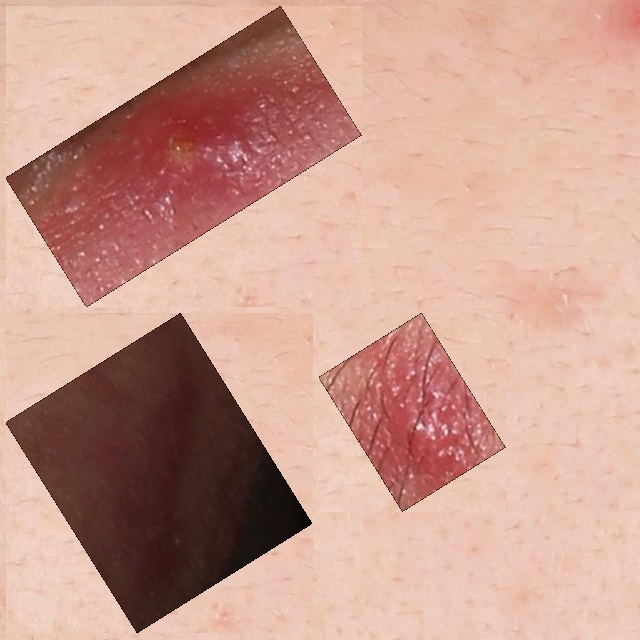nodule: (17, 17, 350, 296), (17, 324, 301, 621), (330, 324, 494, 500)
